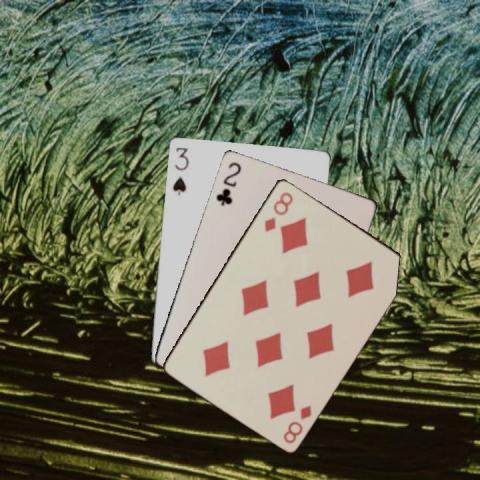2c: (212, 158, 242, 206)
3s: (169, 143, 190, 196)
8d: (260, 188, 294, 233), (280, 402, 313, 445)
